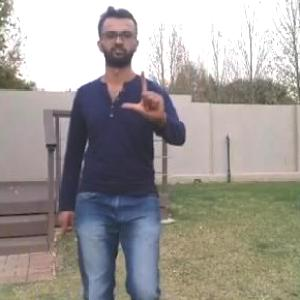land_hand: (120, 62, 170, 124)
